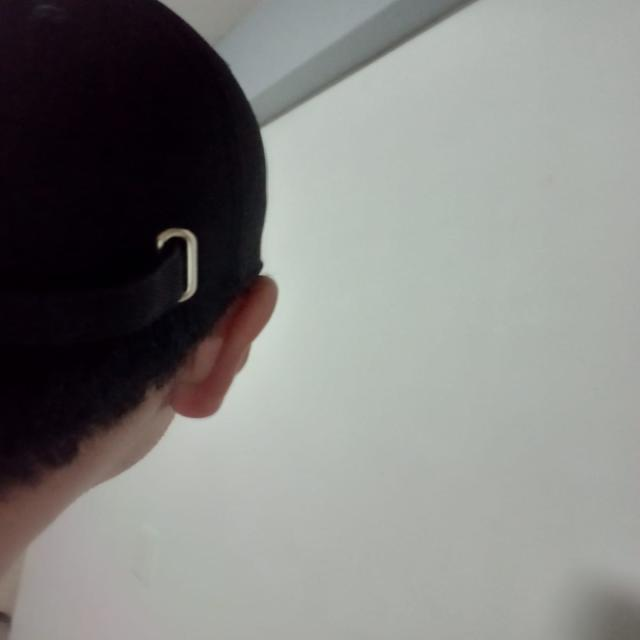ear: (168, 276, 278, 418)
